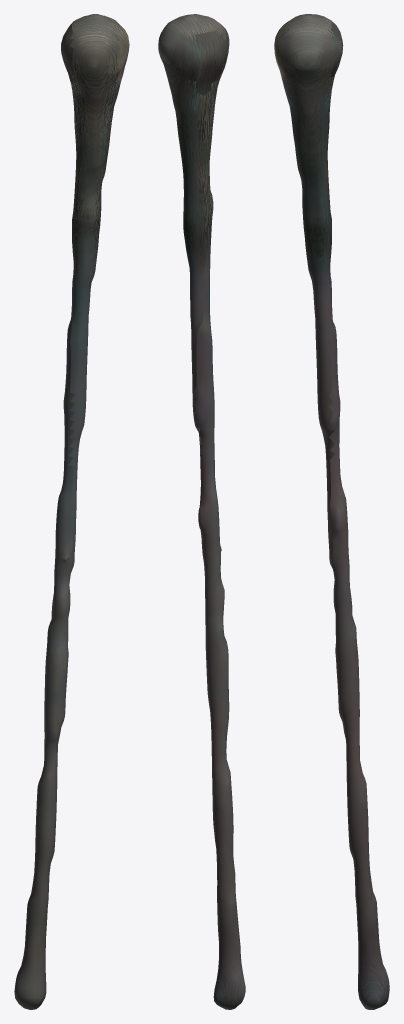
File: kfl-2262.glb
The picture shows the model from 3 angles, left to right: view 1: azimuth 90°, elevation 25°; view 2: azimuth 210°, elevation 25°; view 3: azimuth 270°, elevation 25°; orthographic projection. The views are drawn at different scales.
Parts seen in each view (by area): view 1: geometry_0; view 2: geometry_0; view 3: geometry_0.
Boxes of the visible parts, bbox=[...] form: geometry_0: bbox=[14, 14, 129, 1009]; geometry_0: bbox=[158, 14, 245, 1009]; geometry_0: bbox=[274, 14, 389, 1009].
Bounding box in the file's own units: 0.0675 × 0.9896 × 0.1043.
Materials: 1 (1 with a texture image).
